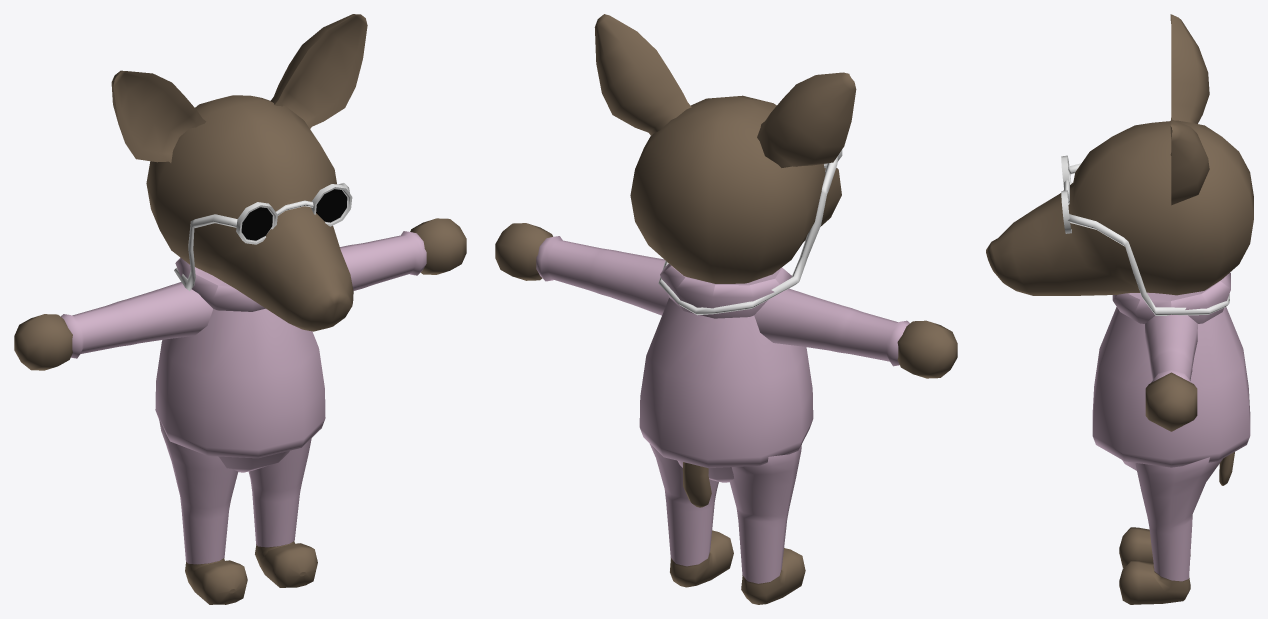
The model's file is Rose_FBX.fbx.
3 views of the same model, side by side, from view 1: azimuth 30°, elevation 25°; view 2: azimuth 150°, elevation 25°; view 3: azimuth 270°, elevation 25° (orthographic). The views are drawn at different scales.
Parts seen in each view (by area): view 1: Rose_Geo; view 2: Rose_Geo; view 3: Rose_Geo.
Boxes of the visible parts, bbox=[...] form: Rose_Geo: bbox=[14, 14, 466, 604]; Rose_Geo: bbox=[495, 14, 957, 604]; Rose_Geo: bbox=[986, 14, 1253, 604].
Size of the model in its own units: 7.05 by 8.09 by 3.83.
